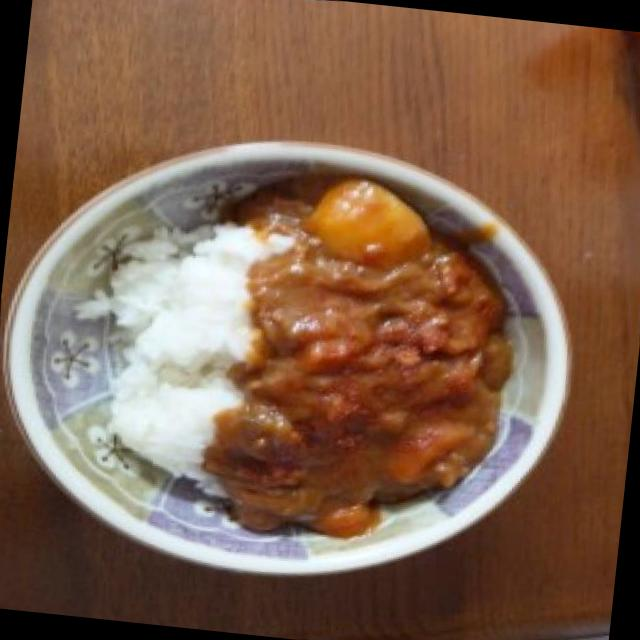Beef Curry: (228, 163, 543, 550)
